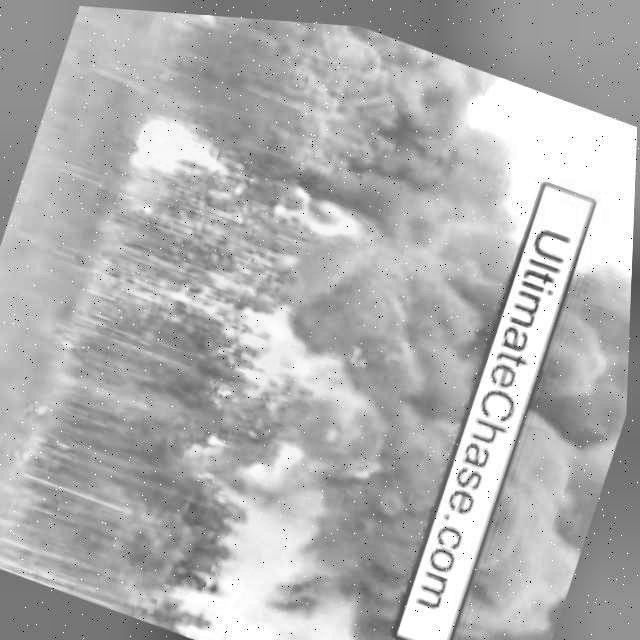Fire: (306, 92, 565, 640), (82, 101, 420, 395), (433, 227, 634, 640), (185, 370, 393, 534), (185, 11, 228, 24)
